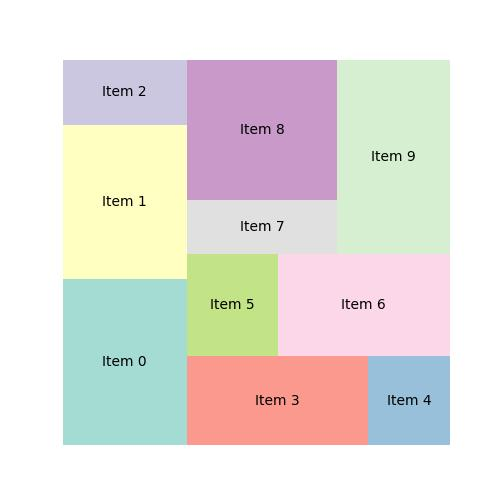rectangle: (336, 59, 448, 255), (187, 58, 337, 202), (61, 276, 188, 444), (63, 126, 187, 277), (276, 254, 450, 356), (187, 355, 368, 446), (184, 254, 278, 354), (187, 199, 339, 254), (61, 61, 187, 126), (366, 356, 450, 446)
